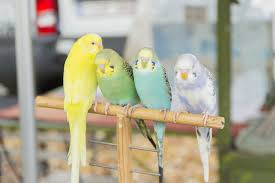budgie: (172, 52, 222, 183), (59, 32, 102, 183), (132, 46, 169, 182), (95, 47, 135, 133)
